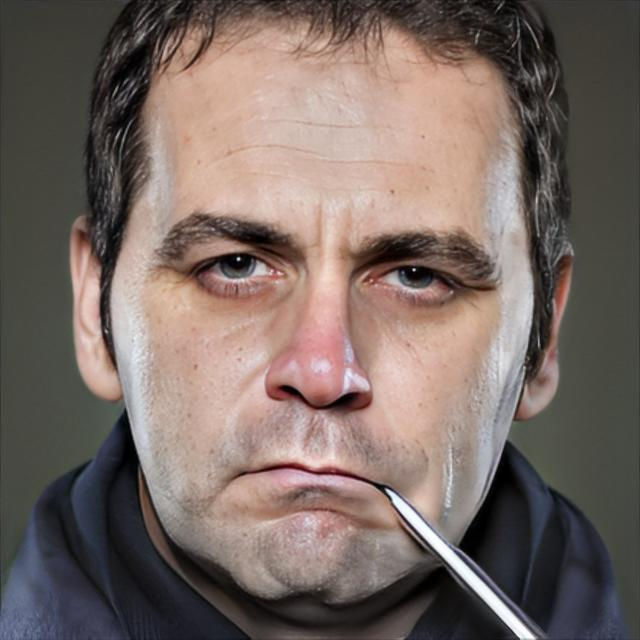anger: (116, 32, 524, 610)
